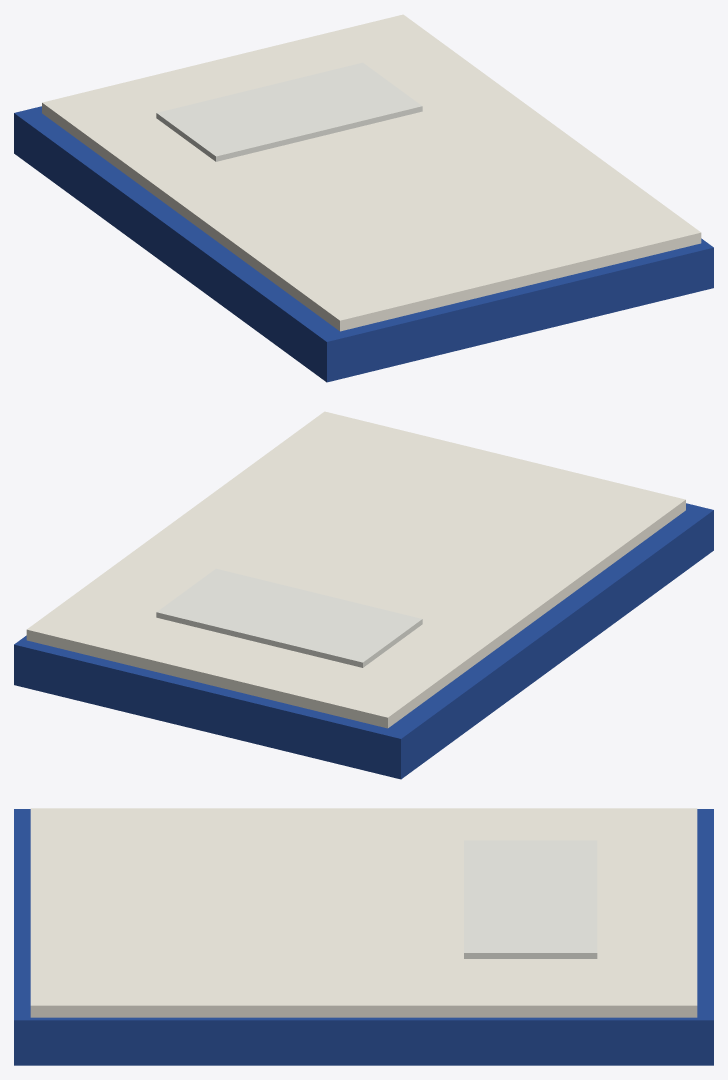
Rendered from garage_km_notebook.glb.
3 renders of one model, top to bottom at view 1: azimuth 30°, elevation 25°; view 2: azimuth 150°, elevation 25°; view 3: azimuth 270°, elevation 25°, orthographic. The views are drawn at different scales.
Visible parts, largest first — view 1: pages_sheet_paper, cover_notebook_blue, label_counter_white; view 2: pages_sheet_paper, cover_notebook_blue, label_counter_white; view 3: pages_sheet_paper, cover_notebook_blue, label_counter_white.
Part boxes in pixels (left/top/right/bottom): pages_sheet_paper: left=42, top=14, right=701, bottom=331; cover_notebook_blue: left=14, top=106, right=713, bottom=382; label_counter_white: left=156, top=62, right=422, bottom=161; pages_sheet_paper: left=26, top=411, right=685, bottom=728; cover_notebook_blue: left=14, top=503, right=713, bottom=779; label_counter_white: left=156, top=568, right=422, bottom=667; pages_sheet_paper: left=30, top=808, right=697, bottom=1017; cover_notebook_blue: left=14, top=809, right=713, bottom=1065; label_counter_white: left=464, top=840, right=597, bottom=958.
Size of the model in its own units: 0.15 by 0.021 by 0.21.
